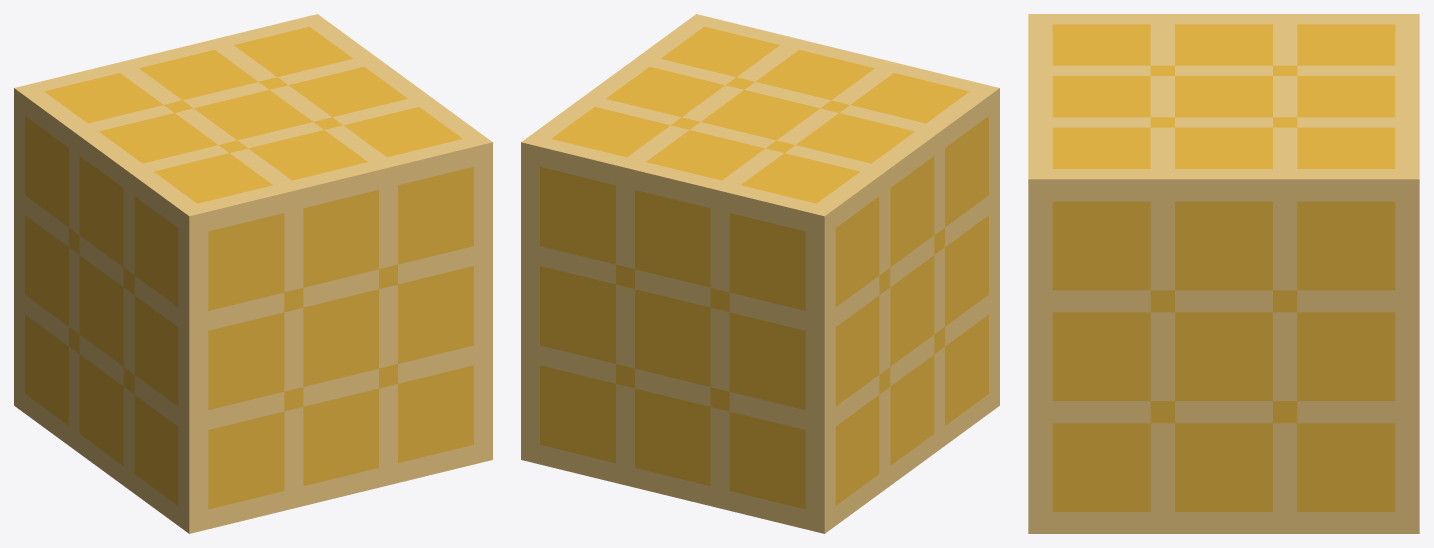
File: CyberTiles_-_Yellow.fbx
The picture shows the model from 3 angles, left to right: view 1: azimuth 30°, elevation 25°; view 2: azimuth 150°, elevation 25°; view 3: azimuth 270°, elevation 25°; orthographic projection. The views are drawn at different scales.
Parts seen in each view (by area): view 1: cyber_tiles - yellow; view 2: cyber_tiles - yellow; view 3: cyber_tiles - yellow.
Boxes of the visible parts, <box> form: cyber_tiles - yellow: <box>14,14,492,533</box>; cyber_tiles - yellow: <box>521,14,999,533</box>; cyber_tiles - yellow: <box>1028,14,1419,533</box>.
Size of the model in its own units: 1.6 by 1.6 by 1.6.
Materials: 1 (1 with a texture image).
